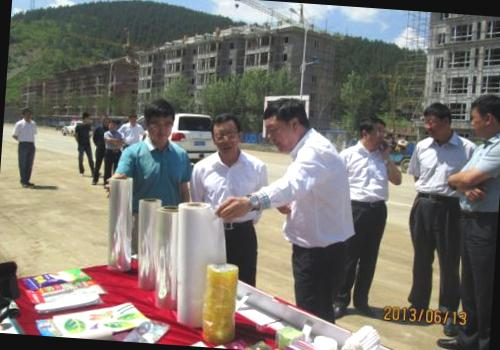no_helmet: (263, 94, 314, 152), (139, 96, 179, 148), (207, 110, 246, 159), (464, 89, 500, 140), (419, 99, 455, 142), (356, 116, 388, 152), (18, 106, 33, 122), (126, 111, 139, 128), (96, 111, 108, 128), (106, 118, 118, 133)
